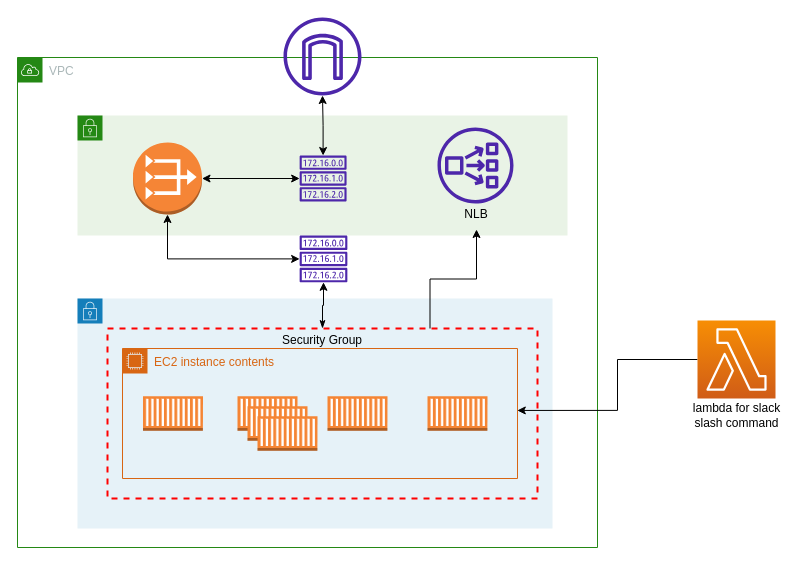
Some shapes in this 803 by 565 pixel diagram are drawn without their labels. Here are the shapes that lost their labels. From the top down, the box of each, then its label:
(76, 114, 568, 236): Public subnet
(76, 298, 552, 528): Private subnet
